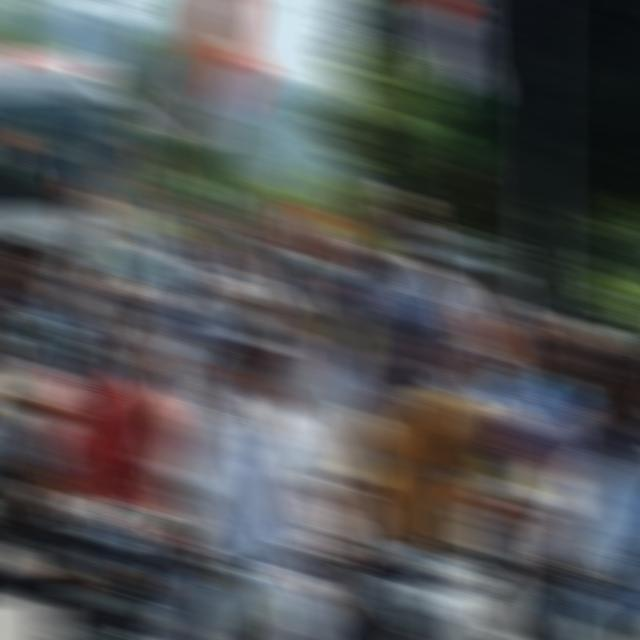With Helmet: (208, 298, 280, 415)
Without Helmet: (554, 306, 618, 412), (380, 314, 439, 412), (86, 298, 146, 388), (371, 180, 432, 266), (18, 266, 60, 328)
